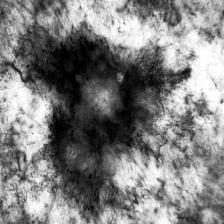Benign Marking or Mole: (15, 24, 189, 207)
